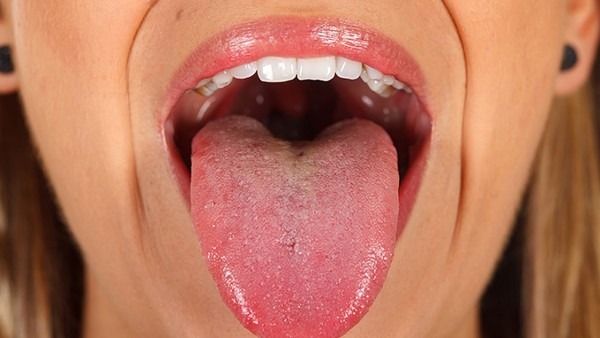hongshe: (191, 114, 399, 338)
huangtaishe: (191, 114, 399, 338)
shenquao: (234, 115, 358, 160)
